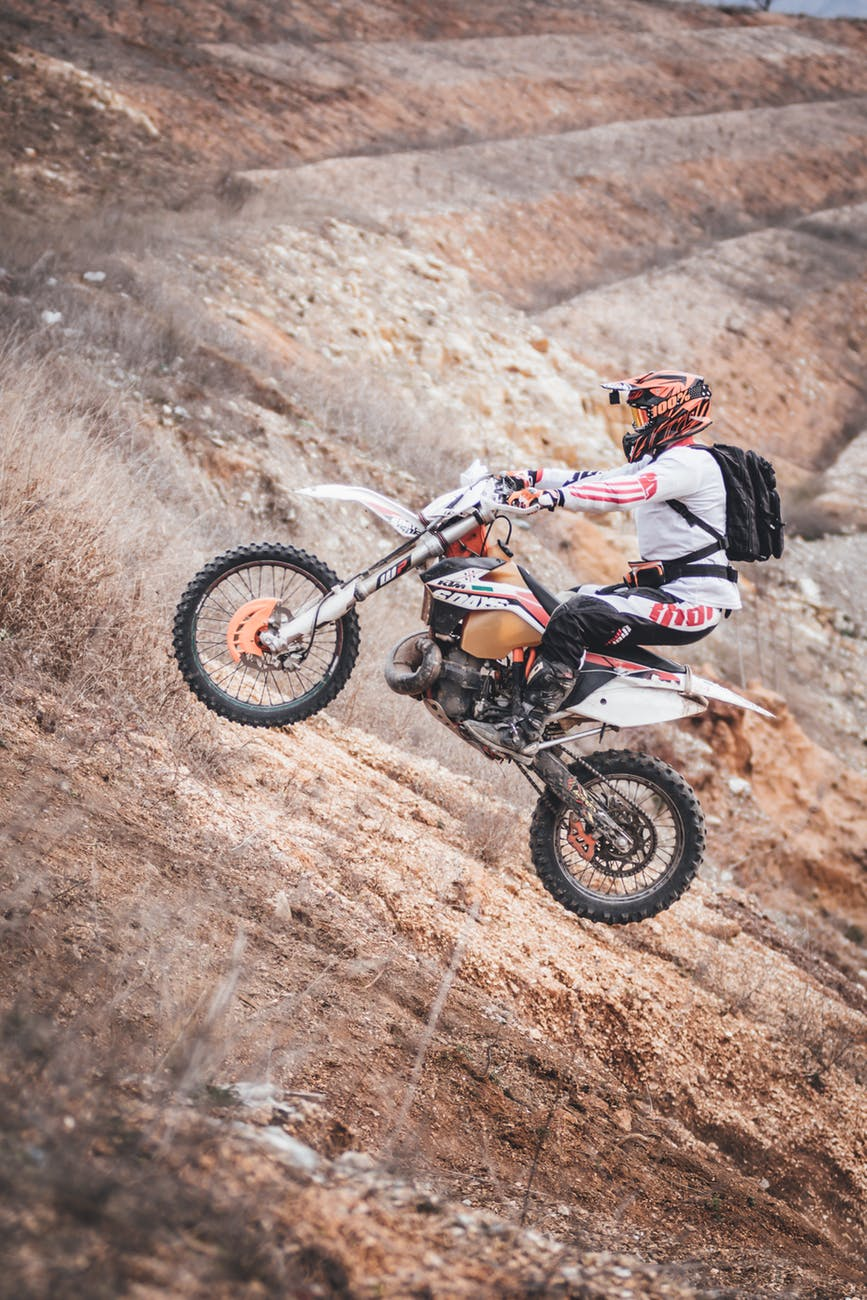helmet: (616, 367, 732, 461)
